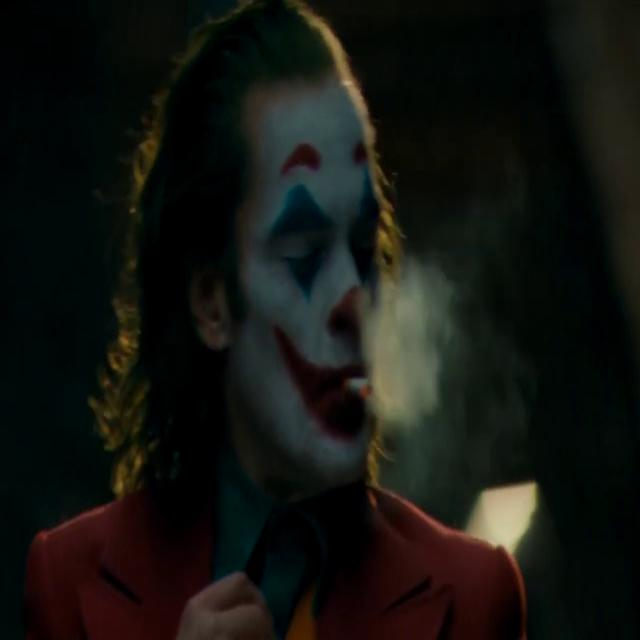Smooking: (343, 372, 379, 403)
